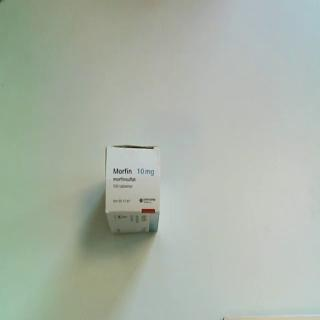morfin10mg: (104, 143, 162, 237)
